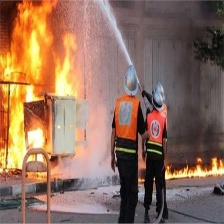fire: (1, 1, 75, 176), (145, 156, 224, 180)
